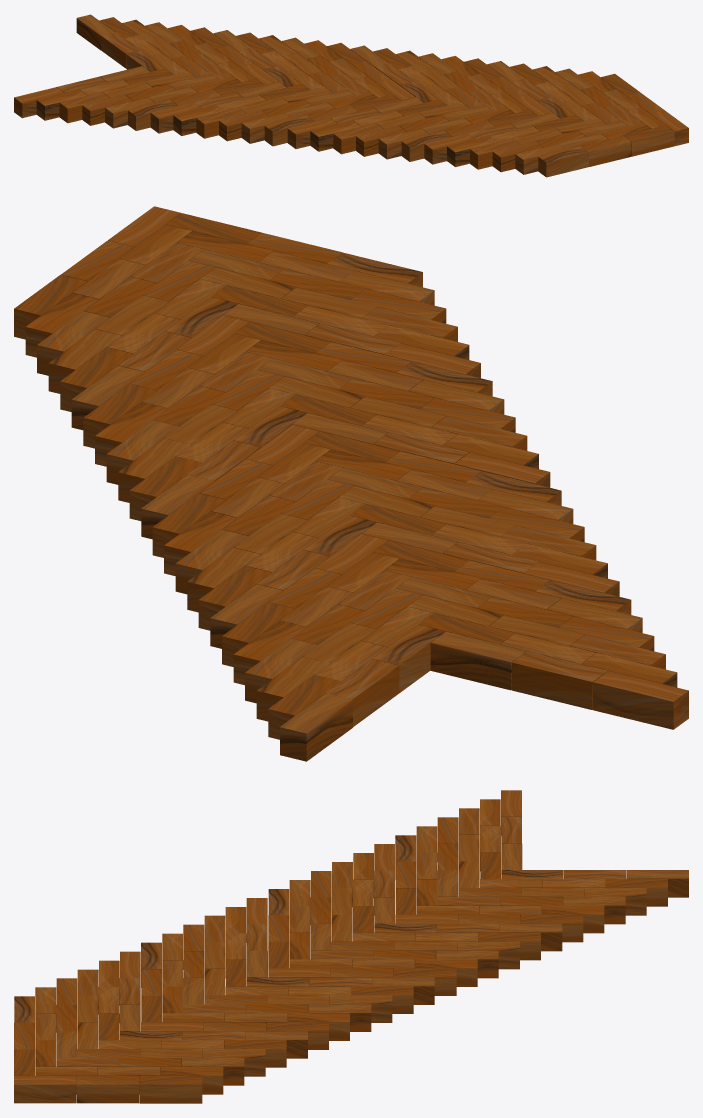
The model's file is DiagonalStraightLong.glb.
3 renders of one model, top to bottom at view 1: azimuth 30°, elevation 25°; view 2: azimuth 150°, elevation 25°; view 3: azimuth 270°, elevation 25°, orthographic. The views are drawn at different scales.
Visible parts, largest first — view 1: DiagonalStraightLong; view 2: DiagonalStraightLong; view 3: DiagonalStraightLong.
Boxes of the visible parts, <box> form: DiagonalStraightLong: <box>14,14,688,177</box>; DiagonalStraightLong: <box>14,206,688,761</box>; DiagonalStraightLong: <box>14,790,688,1103</box>.
Bounding box in the file's own units: 13.39 × 0.4 × 12.98.
1 material, 1 textured.
